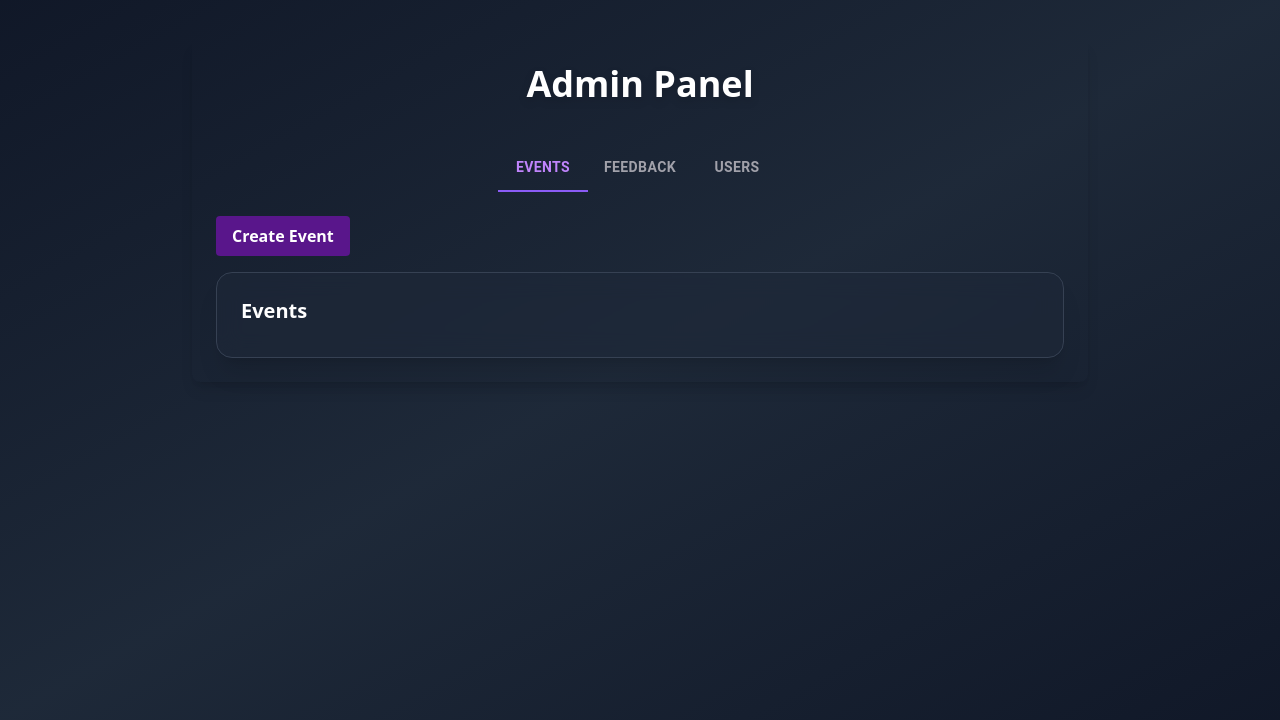
Test: AdminPanel › switches to Feedback tab when clicked
Click the tab "Feedback": (640, 168) [588,144,692,192]
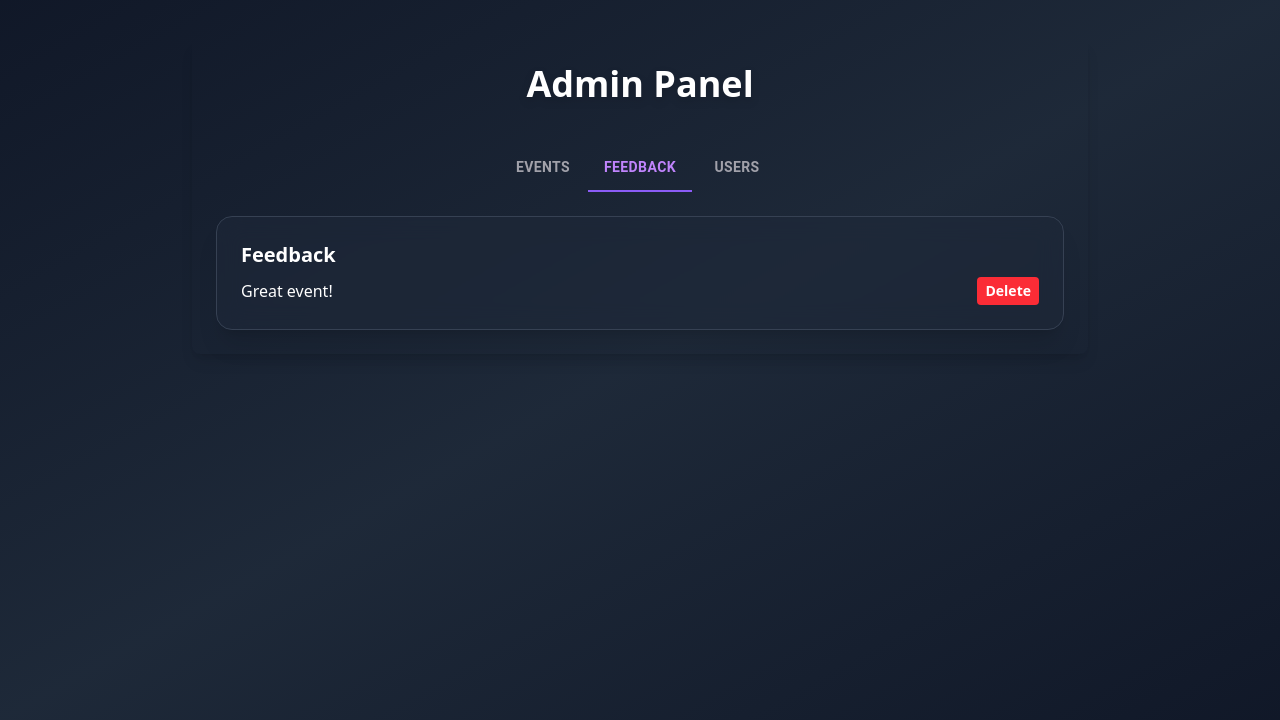
Expected: the text "Great event!" is shown, [241,280,333,302]
